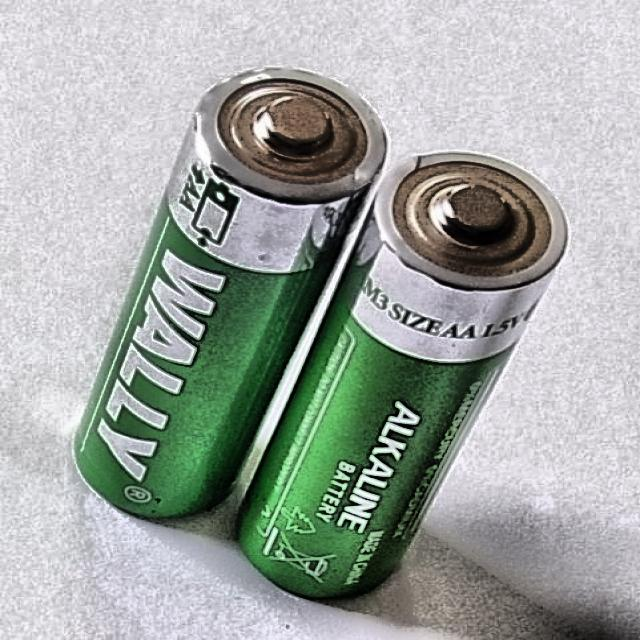Non-Valuable Waste - Batteries: (240, 152, 566, 599), (77, 69, 385, 519)
